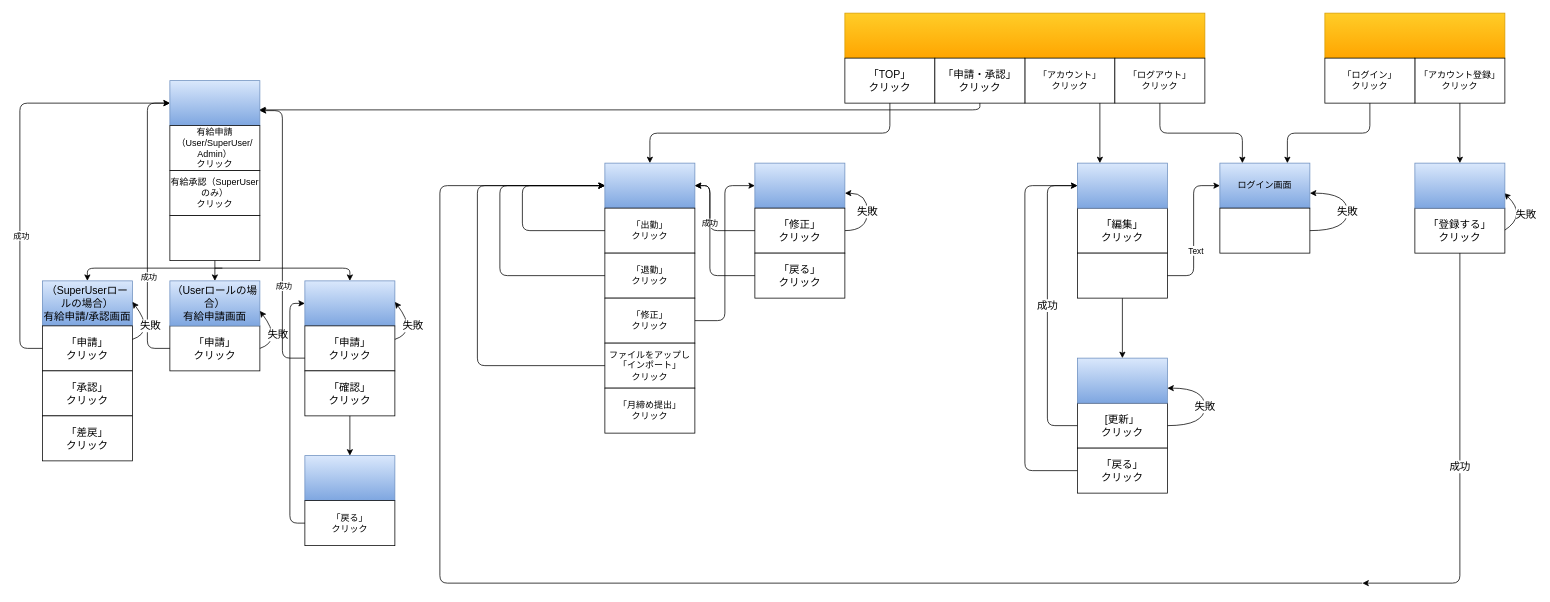
The diagram is 1550 pixels wide and 602 high, and some of its shapes have lost their labels. The centre of each missing label's shape, as x and y in pixels:
"[ログイン」 クリック" belongs at [1264,230].
"TOP画面 （勤怠入力・一覧画面）" belongs at [649,185].
"「退会」 クリック" belongs at [1122,275].
"アカウント 登録画面" belongs at [1459,185].
"アカウント 編集画面" belongs at [1122,380].
"アカウント 詳細画面" belongs at [1122,185].
"グローバルナビゲーション （ログアウト中）" belongs at [1414,35].
"グローバルナビゲーション（ログイン中）" belongs at [1024,35].
"勤怠修正画面" belongs at [799,185].
"月締め一覧 （Adminのみ） クリック" belongs at [214,238].
"申請承認選択画面" belongs at [214,103].
"締め詳細画面" belongs at [349,478].
"（Adminロールの場合）締め一覧画面" belongs at [349,303].
